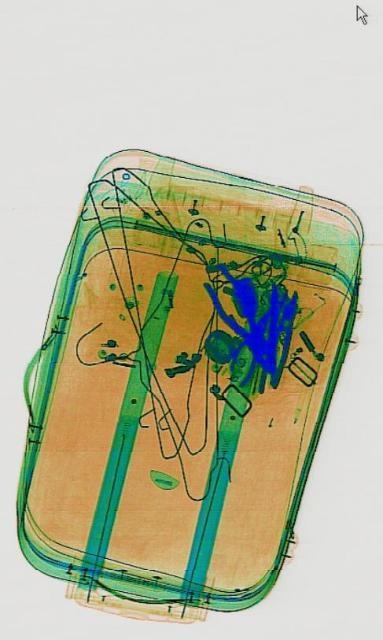Pliers: (199, 254, 283, 391), (223, 298, 277, 390), (258, 284, 302, 392)
